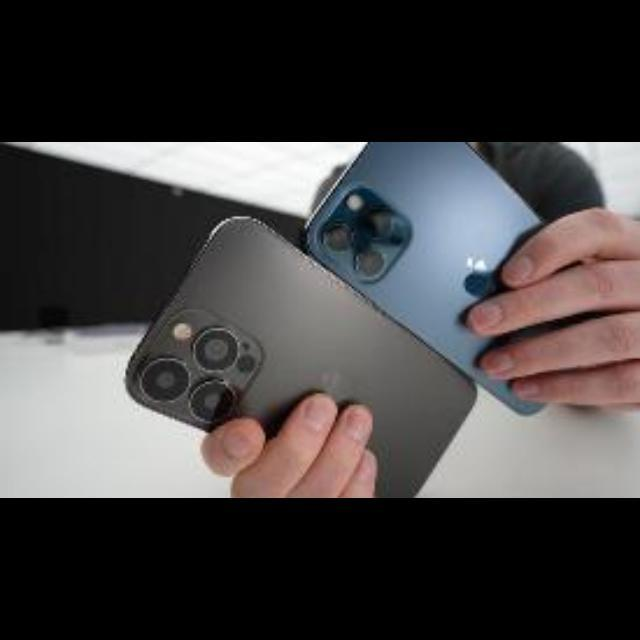Phone: (124, 217, 476, 496), (308, 143, 604, 415)
